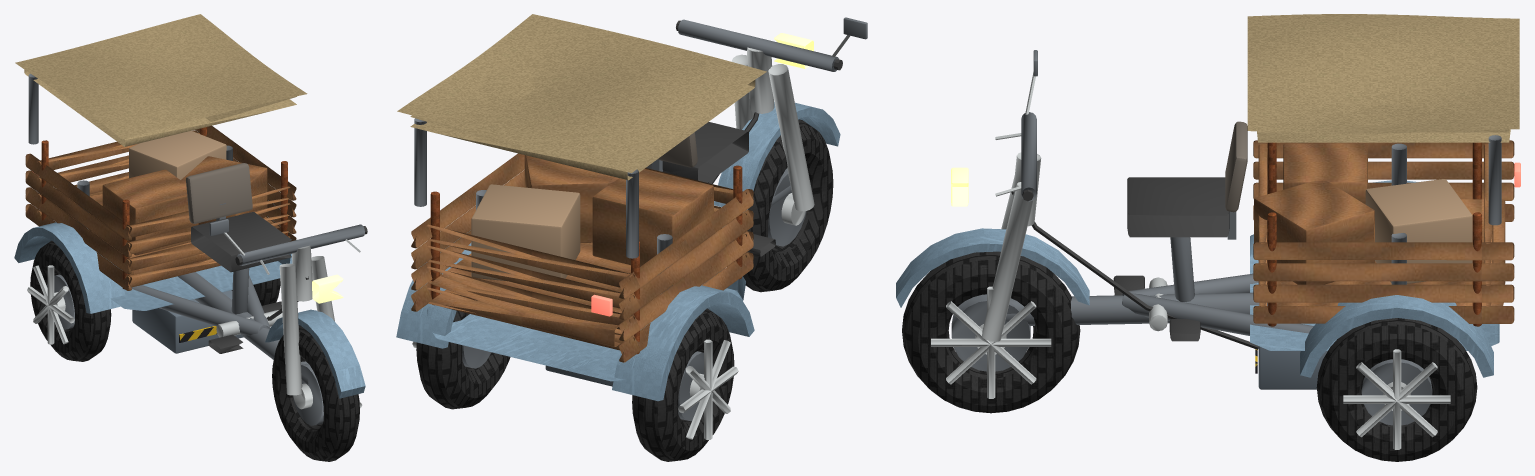
File: atlas_t3.glb
3 views of the same model, side by side, from view 1: azimuth 30°, elevation 25°; view 2: azimuth 150°, elevation 25°; view 3: azimuth 270°, elevation 25° (orthographic). The views are drawn at different scales.
Visible parts, largest first — view 1: atlas_t3_canvas_sand, atlas_t3_wood, atlas_t3_paint_blue, atlas_t3_steel_dark, atlas_t3_WHEEL_dianteira, atlas_t3_WHEEL_traseira_-1, atlas_t3_metal_brushed, atlas_t3_rubber_v, atlas_t3_seat_v, atlas_t3_produce_brown, atlas_t3_battery_v, atlas_t3_rust_gen (+2 smaller); view 2: atlas_t3_wood, atlas_t3_canvas_sand, atlas_t3_paint_blue, atlas_t3_WHEEL_traseira_-1, atlas_t3_WHEEL_dianteira, atlas_t3_produce_brown, atlas_t3_steel_dark, atlas_t3_metal_brushed, atlas_t3, atlas_t3_rubber_v, atlas_t3_rust_gen, atlas_t3_seat_v (+1 smaller); view 3: atlas_t3_canvas_sand, atlas_t3_wood, atlas_t3_WHEEL_dianteira, atlas_t3, atlas_t3_steel_dark, atlas_t3_paint_blue, atlas_t3_rubber_v, atlas_t3_produce_brown, atlas_t3_metal_brushed, atlas_t3_rust_gen, atlas_t3_battery_v, atlas_t3_seat_v (+1 smaller).
Part boxes in pixels (left/top/right/bottom): atlas_t3_canvas_sand: left=15, top=14, right=307, bottom=146; atlas_t3_wood: left=25, top=125, right=296, bottom=290; atlas_t3_paint_blue: left=14, top=200, right=365, bottom=398; atlas_t3_steel_dark: left=28, top=73, right=364, bottom=384; atlas_t3_WHEEL_dianteira: left=272, top=325, right=362, bottom=461; atlas_t3_WHEEL_traseira_-1: left=27, top=240, right=111, bottom=361; atlas_t3_metal_brushed: left=216, top=232, right=360, bottom=395; atlas_t3_rubber_v: left=191, top=212, right=367, bottom=353; atlas_t3_seat_v: left=186, top=163, right=252, bottom=223; atlas_t3_produce_brown: left=129, top=131, right=226, bottom=179; atlas_t3_battery_v: left=132, top=290, right=243, bottom=353; atlas_t3_rust_gen: left=41, top=127, right=287, bottom=289; atlas_t3_wood: left=411, top=153, right=753, bottom=362; atlas_t3_canvas_sand: left=397, top=14, right=766, bottom=180; atlas_t3_paint_blue: left=396, top=102, right=840, bottom=401; atlas_t3_WHEEL_traseira_-1: left=632, top=308, right=738, bottom=461; atlas_t3_WHEEL_dianteira: left=743, top=119, right=833, bottom=292; atlas_t3_produce_brown: left=471, top=184, right=580, bottom=280; atlas_t3_steel_dark: left=414, top=17, right=867, bottom=291; atlas_t3_metal_brushed: left=731, top=35, right=850, bottom=211; atlas_t3: left=412, top=311, right=510, bottom=409; atlas_t3_rubber_v: left=646, top=20, right=842, bottom=256; atlas_t3_rust_gen: left=430, top=165, right=742, bottom=354; atlas_t3_seat_v: left=657, top=132, right=697, bottom=167; atlas_t3_canvas_sand: left=1247, top=14, right=1519, bottom=142; atlas_t3_wood: left=1253, top=140, right=1514, bottom=323; atlas_t3_WHEEL_dianteira: left=902, top=251, right=1080, bottom=413; atlas_t3: left=1316, top=318, right=1477, bottom=461; atlas_t3_steel_dark: left=1005, top=50, right=1501, bottom=335; atlas_t3_paint_blue: left=896, top=180, right=1499, bottom=377; atlas_t3_rubber_v: left=1011, top=177, right=1258, bottom=349; atlas_t3_produce_brown: left=1365, top=179, right=1472, bottom=283; atlas_t3_metal_brushed: left=982, top=72, right=1167, bottom=341; atlas_t3_rust_gen: left=1267, top=142, right=1481, bottom=326; atlas_t3_battery_v: left=1258, top=346, right=1327, bottom=389; atlas_t3_seat_v: left=1225, top=121, right=1247, bottom=212.
Size of the model in its own units: 1.42 by 1.71 by 2.8.
Materials: 14 (6 with a texture image).
